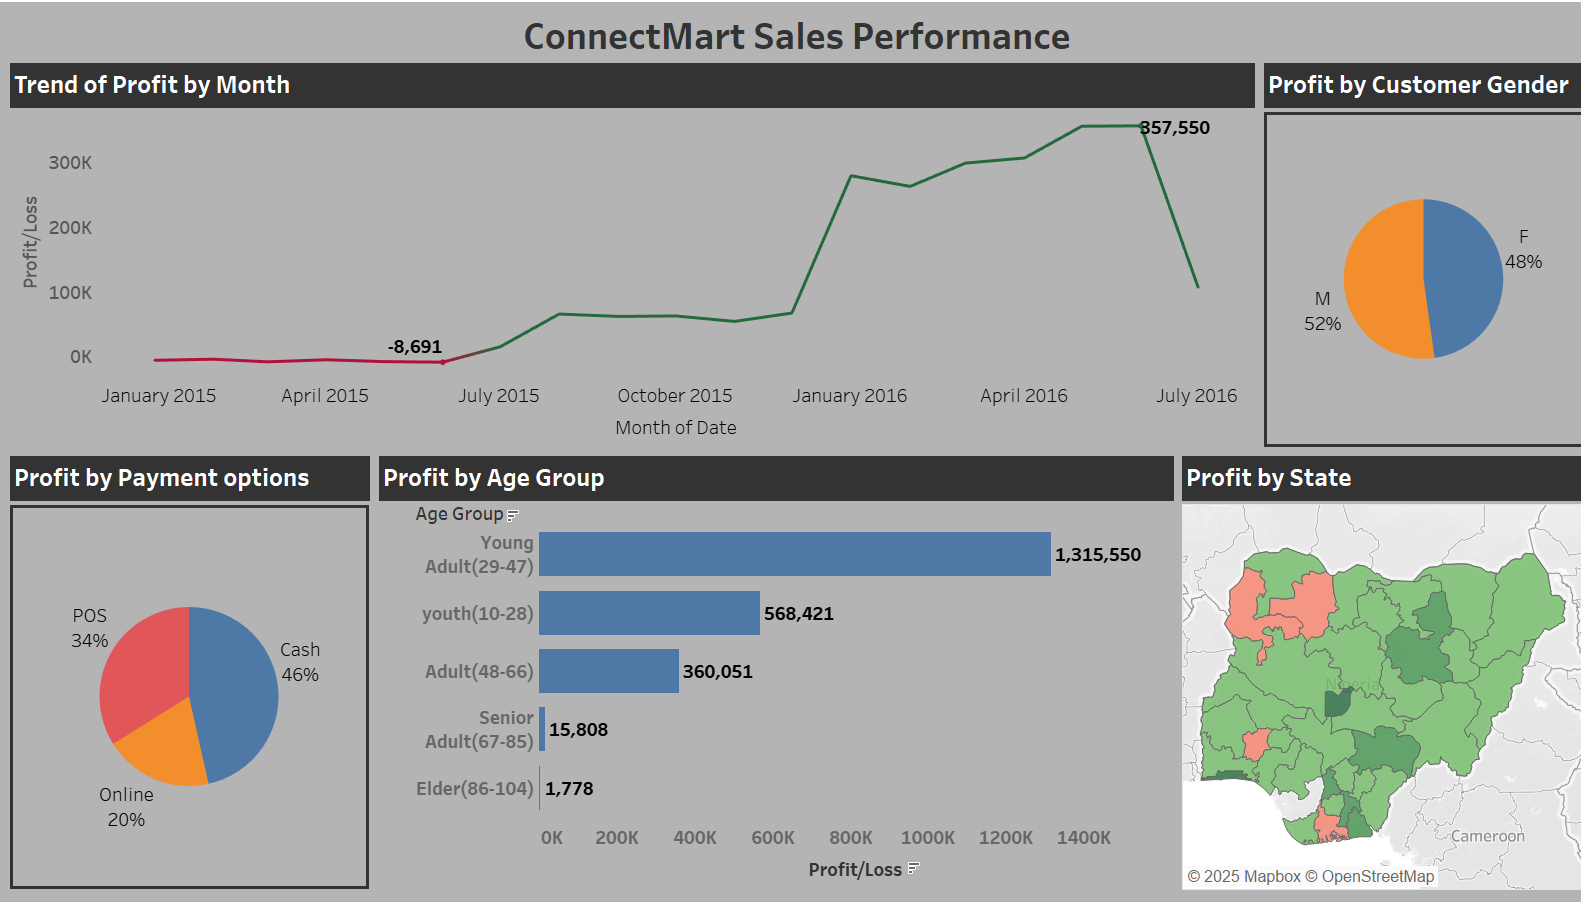

The page's visual inventory and layout, read from the dashboard file:
{"tool":"tableau","page":{"name":"Dashboard Overview","canvas":[1600,900],"ordinal":0},"visuals":[{"type":"title","box":[8,8,1584,49]},{"type":"worksheet","title":"Trend of Profit by Month","mark":"Automatic","rows":["Calculation_1608066588141301764"],"cols":["Date"],"box":[8,57,1254,393]},{"type":"worksheet","title":"Profit by Customer Gender ","mark":"Pie","box":[1262,57,330,393]},{"type":"worksheet","title":"Profit by Payment options","mark":"Pie","box":[8,450,369,442]},{"type":"worksheet","title":"Profit by Age Group","mark":"Automatic","rows":["Calculation_1608066588143116294"],"cols":["Calculation_1608066588141301764"],"box":[377,450,804,442]},{"type":"worksheet","title":"Profit by State","mark":"Automatic","box":[1181,450,411,442]}]}

Visuals, with their boxes in screenshot pixels (x1, y1, x2, y2), scaled from the page's 1600x900 canvas onto the 1587x907 screenshot:
title: BBox(8, 8, 1579, 57)
"Trend of Profit by Month" worksheet: BBox(8, 57, 1252, 454)
"Profit by Customer Gender " worksheet (Pie marks): BBox(1252, 57, 1579, 454)
"Profit by Payment options" worksheet (Pie marks): BBox(8, 454, 374, 899)
"Profit by Age Group" worksheet: BBox(374, 454, 1171, 899)
"Profit by State" worksheet: BBox(1171, 454, 1579, 899)
